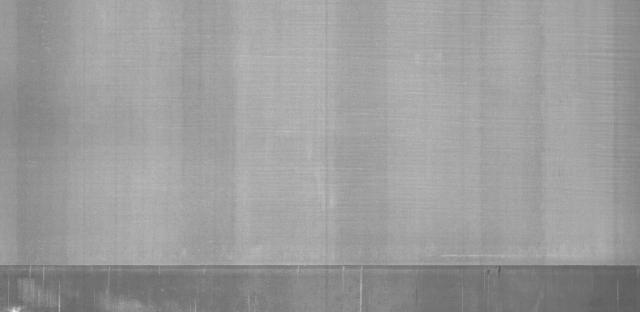welding_line: (3, 256, 639, 284)
